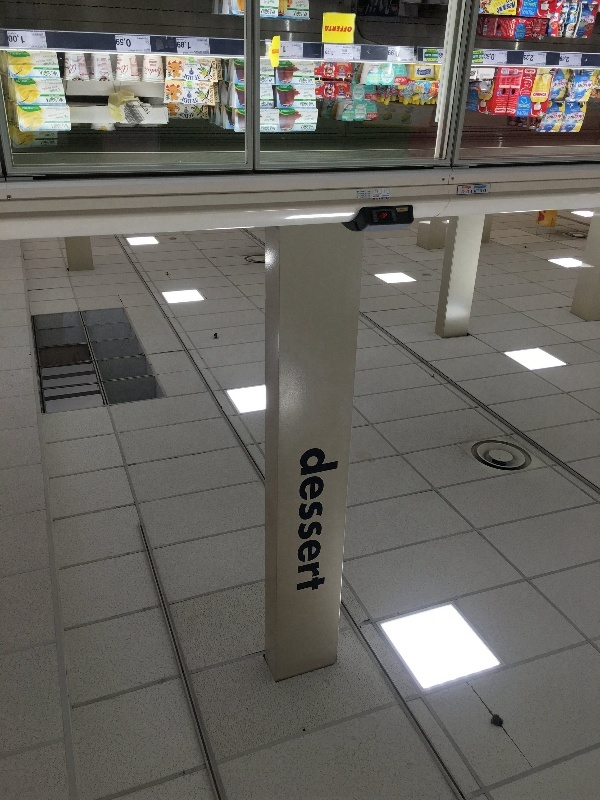text: (305, 441, 320, 592), (321, 441, 336, 592), (299, 441, 304, 592), (513, 68, 524, 115), (502, 68, 512, 115), (65, 56, 80, 77), (337, 441, 339, 592), (129, 57, 144, 77), (260, 84, 272, 107), (210, 85, 224, 104), (261, 60, 272, 83), (499, 19, 512, 38), (212, 61, 224, 81), (33, 31, 47, 48), (33, 53, 48, 68), (481, 18, 496, 33), (485, 17, 496, 37), (497, 1, 512, 15), (514, 21, 528, 36), (354, 87, 368, 101), (291, 44, 304, 58), (177, 39, 192, 51), (214, 83, 224, 101), (145, 66, 160, 78), (81, 56, 89, 76), (261, 109, 272, 123), (354, 47, 368, 58), (529, 73, 535, 97), (117, 63, 128, 76), (534, 18, 544, 32), (49, 53, 58, 68), (49, 112, 64, 121), (102, 58, 112, 71), (518, 103, 528, 116), (561, 56, 576, 64), (25, 31, 32, 48), (195, 82, 208, 91), (385, 70, 394, 83), (218, 60, 224, 79), (337, 26, 353, 33), (389, 104, 400, 114), (388, 49, 400, 58), (116, 38, 128, 47), (499, 52, 512, 60), (198, 58, 208, 68), (197, 39, 208, 48), (49, 85, 60, 94), (17, 34, 26, 45), (357, 107, 368, 116), (306, 115, 320, 122), (370, 74, 384, 81), (337, 44, 353, 50), (524, 73, 528, 97), (580, 76, 592, 84), (91, 56, 96, 75), (99, 70, 112, 77), (49, 97, 64, 103), (8, 34, 16, 45), (485, 53, 496, 61), (261, 8, 272, 16), (273, 109, 279, 123), (180, 112, 192, 119), (404, 49, 416, 56), (578, 83, 592, 89), (145, 101, 151, 115), (407, 106, 416, 115), (583, 11, 592, 20), (470, 98, 480, 106), (529, 1, 537, 11), (49, 79, 62, 85), (137, 36, 144, 47), (325, 26, 336, 33), (421, 68, 432, 75), (193, 50, 208, 55), (129, 47, 144, 52), (481, 90, 496, 95), (305, 91, 314, 99), (468, 106, 480, 112), (182, 97, 192, 104), (281, 44, 288, 54), (294, 11, 304, 18), (326, 50, 336, 57), (529, 21, 534, 35), (550, 108, 560, 115), (149, 61, 160, 67), (145, 36, 151, 47), (117, 59, 128, 65), (581, 18, 592, 24), (51, 124, 64, 129), (401, 58, 414, 63), (483, 110, 496, 115), (184, 74, 192, 82), (193, 74, 201, 82), (535, 86, 544, 93), (77, 56, 80, 76), (49, 71, 59, 77), (38, 79, 48, 85), (49, 107, 64, 111), (294, 61, 304, 67), (426, 83, 432, 93), (516, 34, 528, 39), (577, 54, 582, 66), (548, 115, 560, 120), (497, 109, 512, 113), (226, 106, 240, 110), (261, 126, 272, 131), (39, 71, 48, 77), (42, 85, 48, 94), (305, 61, 314, 67), (439, 52, 448, 58), (305, 110, 318, 114), (305, 86, 315, 91), (305, 102, 315, 107), (305, 68, 312, 75), (204, 106, 208, 118), (17, 52, 29, 56), (538, 53, 544, 61), (529, 63, 545, 66), (273, 60, 275, 83), (183, 87, 192, 92), (17, 80, 32, 83), (295, 86, 304, 91), (305, 125, 314, 130), (337, 58, 352, 61), (485, 61, 496, 65), (517, 29, 528, 33), (373, 197, 384, 201), (193, 97, 199, 104), (345, 111, 352, 117), (369, 94, 376, 100), (369, 113, 376, 119), (578, 95, 592, 98), (141, 101, 144, 115), (184, 50, 192, 55), (305, 79, 313, 84), (392, 58, 400, 63), (497, 61, 507, 65), (534, 93, 544, 97), (529, 54, 534, 62), (524, 1, 528, 11), (571, 108, 576, 116), (339, 72, 352, 75), (343, 49, 352, 53), (522, 10, 528, 16), (529, 10, 535, 16), (545, 22, 548, 34), (545, 14, 554, 18), (554, 82, 560, 88), (561, 82, 567, 88), (273, 49, 280, 54), (569, 115, 576, 120), (101, 79, 112, 82), (517, 9, 528, 12), (280, 61, 288, 65), (524, 54, 528, 62), (264, 1, 272, 5), (209, 58, 212, 68), (186, 63, 192, 68), (145, 47, 151, 52), (49, 95, 64, 97), (22, 107, 32, 110), (395, 78, 400, 84), (401, 78, 406, 84), (395, 69, 400, 75), (513, 21, 515, 36), (577, 115, 583, 120), (9, 52, 16, 56), (297, 4, 304, 8), (425, 54, 432, 58), (513, 1, 515, 15), (497, 4, 504, 8), (473, 55, 480, 59), (526, 21, 528, 35), (556, 76, 560, 83), (55, 121, 64, 124), (279, 86, 288, 89), (327, 58, 336, 61), (339, 93, 352, 95), (371, 65, 384, 67), (483, 79, 496, 81), (529, 103, 531, 116), (193, 63, 198, 68), (299, 79, 304, 84), (161, 66, 163, 78), (388, 48, 400, 50), (401, 69, 405, 75), (529, 70, 535, 74), (520, 20, 528, 23), (574, 54, 576, 66), (548, 126, 560, 128), (273, 8, 276, 16), (33, 107, 40, 110), (305, 11, 308, 18), (545, 86, 548, 93), (561, 76, 564, 83), (65, 124, 69, 129), (300, 102, 304, 107), (299, 110, 304, 114), (326, 49, 336, 51), (342, 53, 352, 55), (433, 54, 438, 58), (556, 16, 560, 21), (566, 65, 576, 67), (186, 83, 192, 86), (45, 97, 48, 103), (439, 50, 448, 52), (129, 38, 131, 47), (241, 85, 245, 89), (65, 107, 69, 111), (8, 33, 16, 35), (577, 108, 579, 116), (385, 197, 389, 201), (193, 87, 196, 92), (301, 125, 304, 130), (475, 51, 480, 54), (561, 55, 576, 56), (193, 112, 195, 119), (281, 110, 288, 112), (305, 100, 312, 102), (305, 123, 312, 125), (297, 9, 304, 11), (569, 126, 576, 128), (236, 60, 240, 63), (237, 85, 240, 89), (241, 110, 245, 113), (289, 61, 292, 65), (289, 86, 293, 89), (289, 110, 295, 112), (353, 111, 355, 117), (366, 94, 368, 100), (493, 4, 496, 8), (508, 10, 512, 13), (481, 55, 484, 59), (543, 22, 544, 34), (554, 94, 560, 96), (382, 213, 384, 219), (385, 213, 387, 219), (485, 52, 496, 53), (273, 126, 275, 131), (43, 68, 48, 70), (49, 68, 54, 70), (305, 76, 310, 78), (427, 51, 432, 53), (189, 59, 192, 62), (209, 82, 210, 91), (241, 60, 244, 63), (65, 112, 66, 121), (481, 51, 484, 54), (46, 107, 48, 111), (305, 4, 307, 8), (433, 51, 437, 53), (526, 70, 528, 74), (545, 93, 547, 97), (545, 53, 546, 61), (273, 1, 275, 5), (513, 109, 515, 113), (303, 68, 304, 75), (33, 80, 35, 83), (513, 10, 515, 13), (593, 18, 594, 24), (577, 65, 580, 67), (209, 50, 210, 55), (561, 115, 562, 120), (302, 76, 304, 78), (193, 59, 194, 62), (527, 63, 528, 66), (525, 53, 528, 54), (303, 100, 304, 102), (529, 53, 530, 54)
